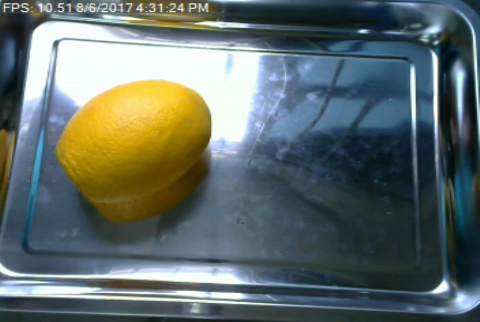Orange: (55, 81, 211, 201)
